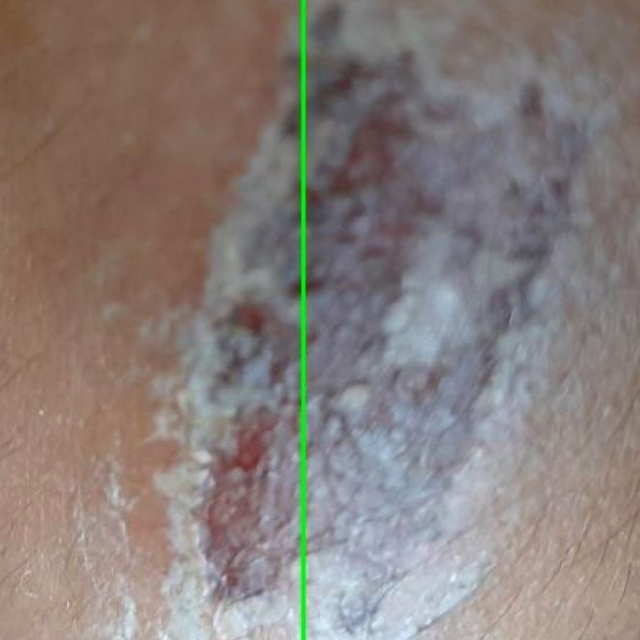Atopic Dermatitis: (0, 0, 303, 639)
